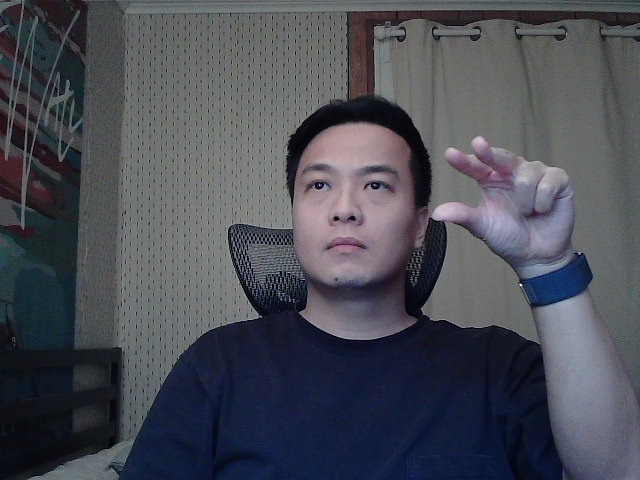No: (422, 128, 590, 281)
